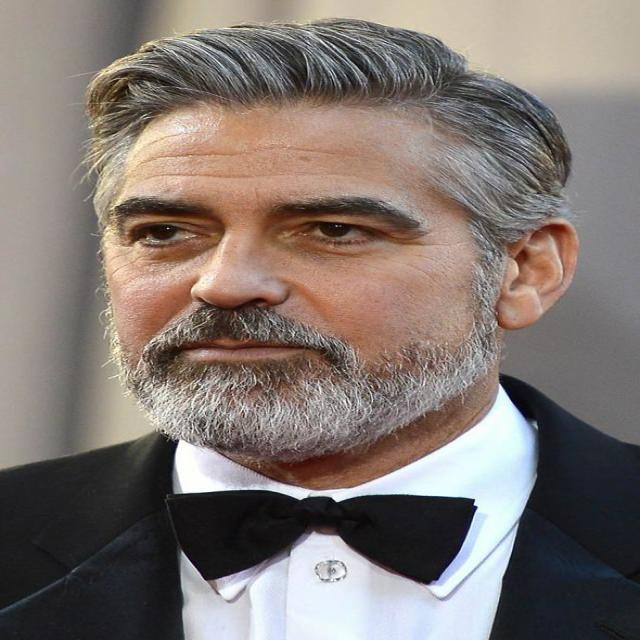beard: (116, 306, 498, 468)
hair: (84, 17, 571, 262)
